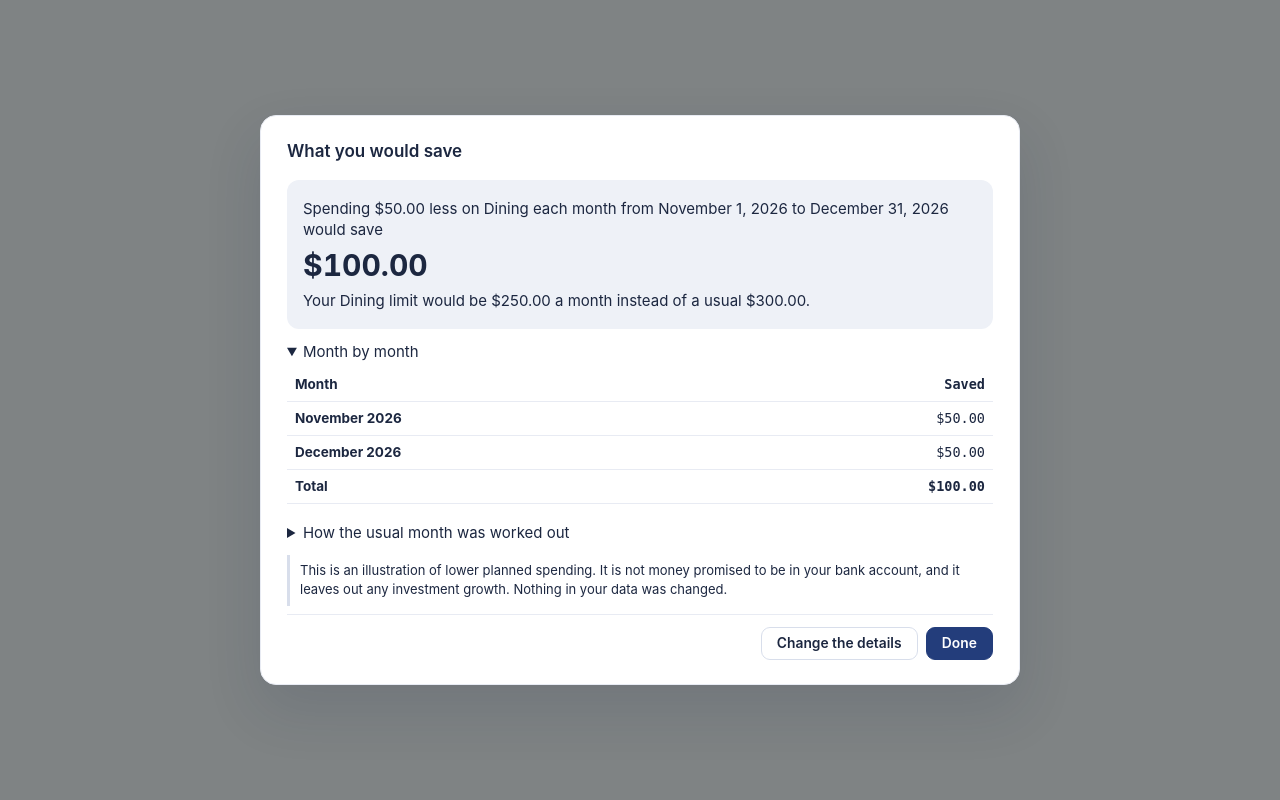
Test: the result screen › a manual baseline is described as the person's own number
This screenshot has width=1280, height=800.
Click the heading "How the usual month was worked out": (436, 532) [303,523,570,542]
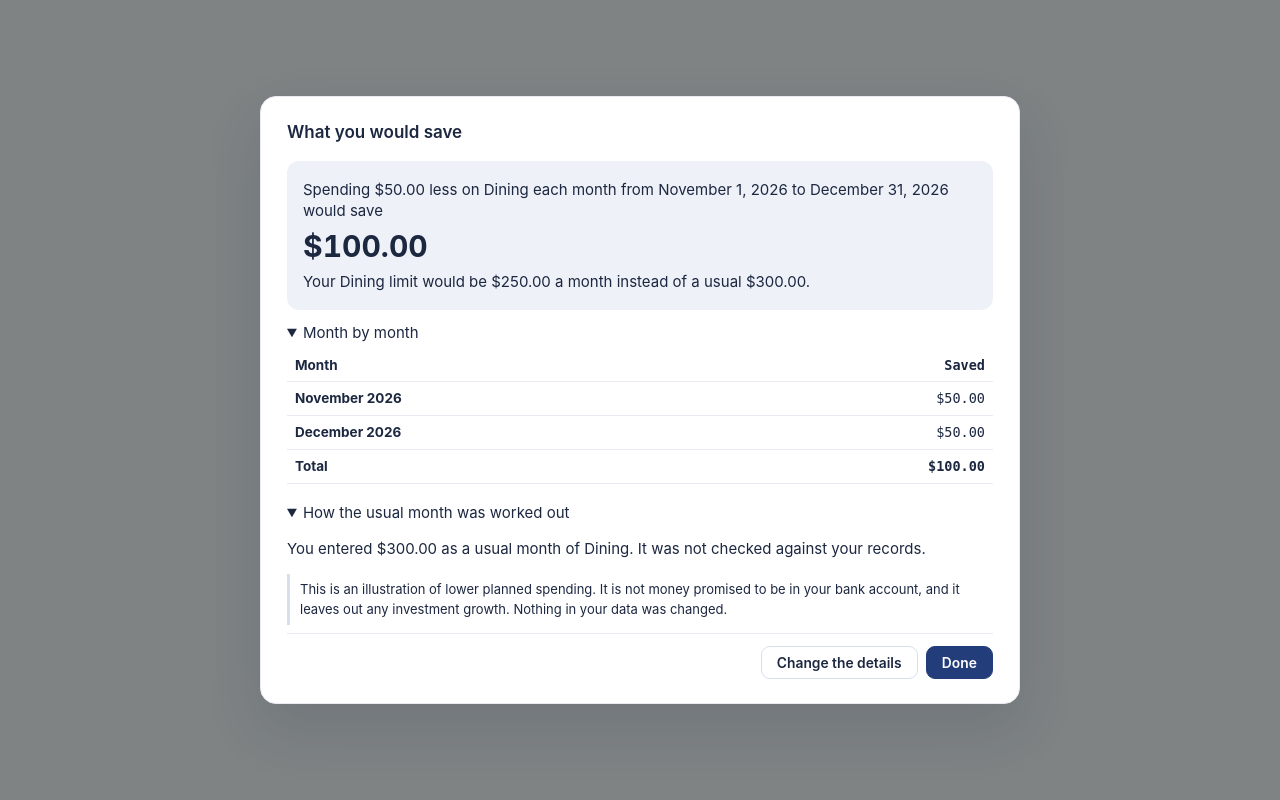
Result: the dialog shows "You entered $300.00 as a usual month of Dining. It was not checked against your records." at [260,96,1020,704]
